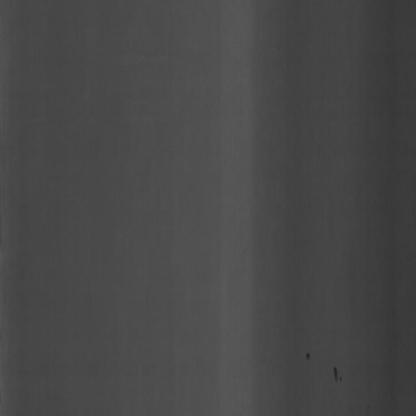oil_spot: (295, 343, 347, 397)
